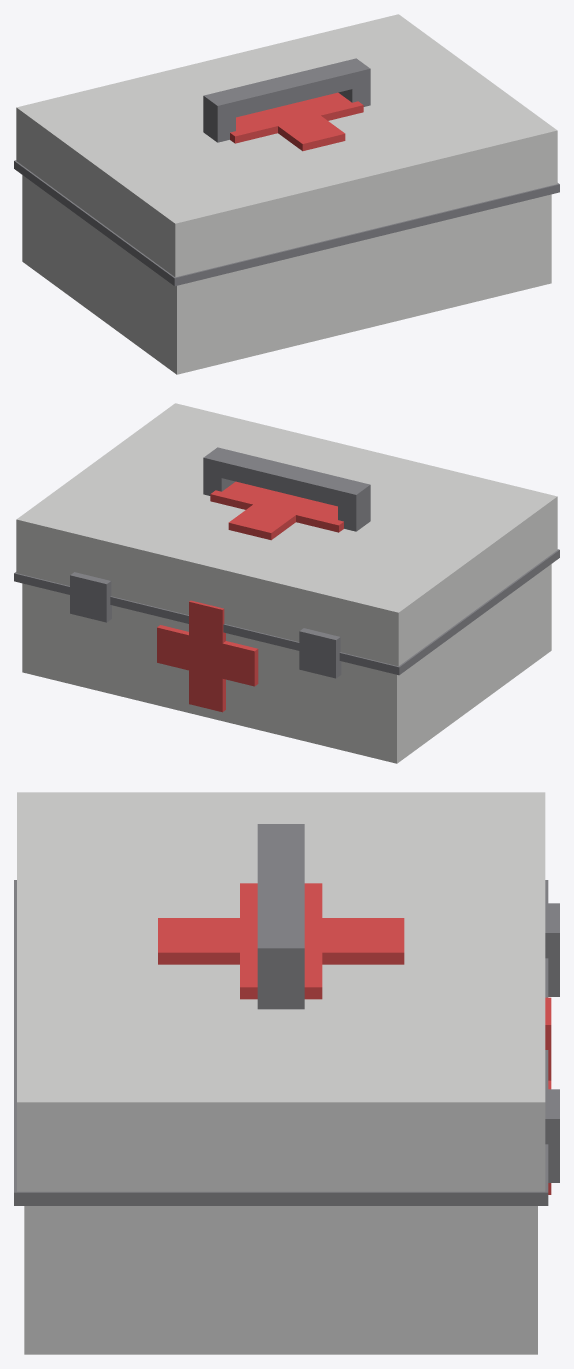
Rendered from first_aid.glb.
The picture shows the model from 3 angles, top to bottom: view 1: azimuth 30°, elevation 25°; view 2: azimuth 150°, elevation 25°; view 3: azimuth 270°, elevation 25°; orthographic projection. The views are drawn at different scales.
Parts seen in each view (by area): view 1: First_Aid; view 2: First_Aid; view 3: First_Aid.
Part boxes in pixels (x1,y1,x2,y2): First_Aid: (14, 14, 559, 374); First_Aid: (14, 403, 559, 763); First_Aid: (14, 792, 559, 1354).
Bounding box in the file's own units: 0.252 × 0.119 × 0.186.
